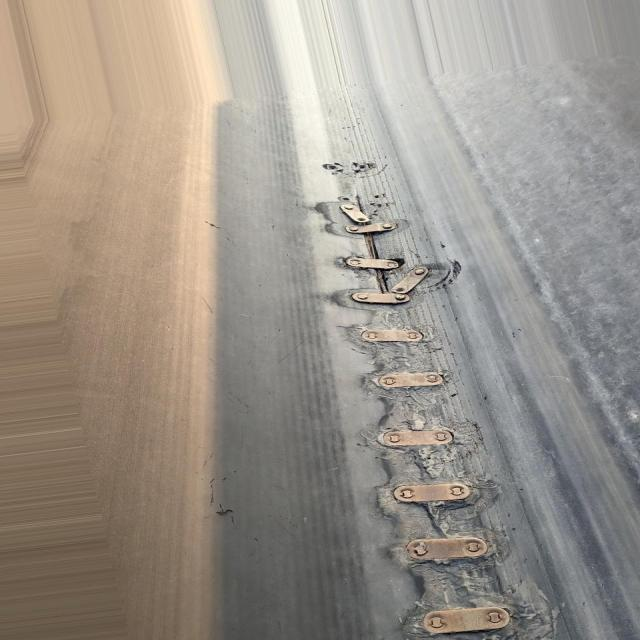patch work: (296, 157, 546, 640)
